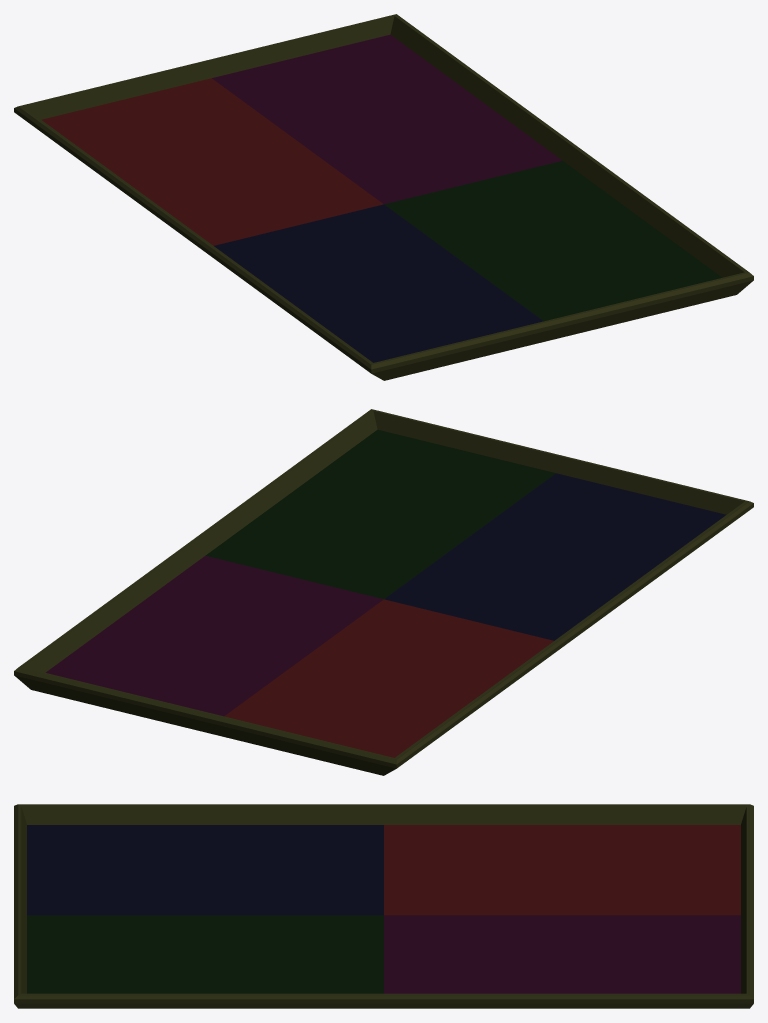
The model's file is cuadro.FBX.
3 renders of one model, top to bottom at view 1: azimuth 30°, elevation 25°; view 2: azimuth 150°, elevation 25°; view 3: azimuth 270°, elevation 25°, orthographic. The views are drawn at different scales.
Parts seen in each view (by area): view 1: Cube; view 2: Cube; view 3: Cube.
Part boxes in pixels (box(x1,y1,x2,y2)): Cube: box(14, 14, 753, 380); Cube: box(14, 409, 753, 775); Cube: box(14, 804, 753, 1008).
Size of the model in its own units: 81.32 by 3.9 by 131.
